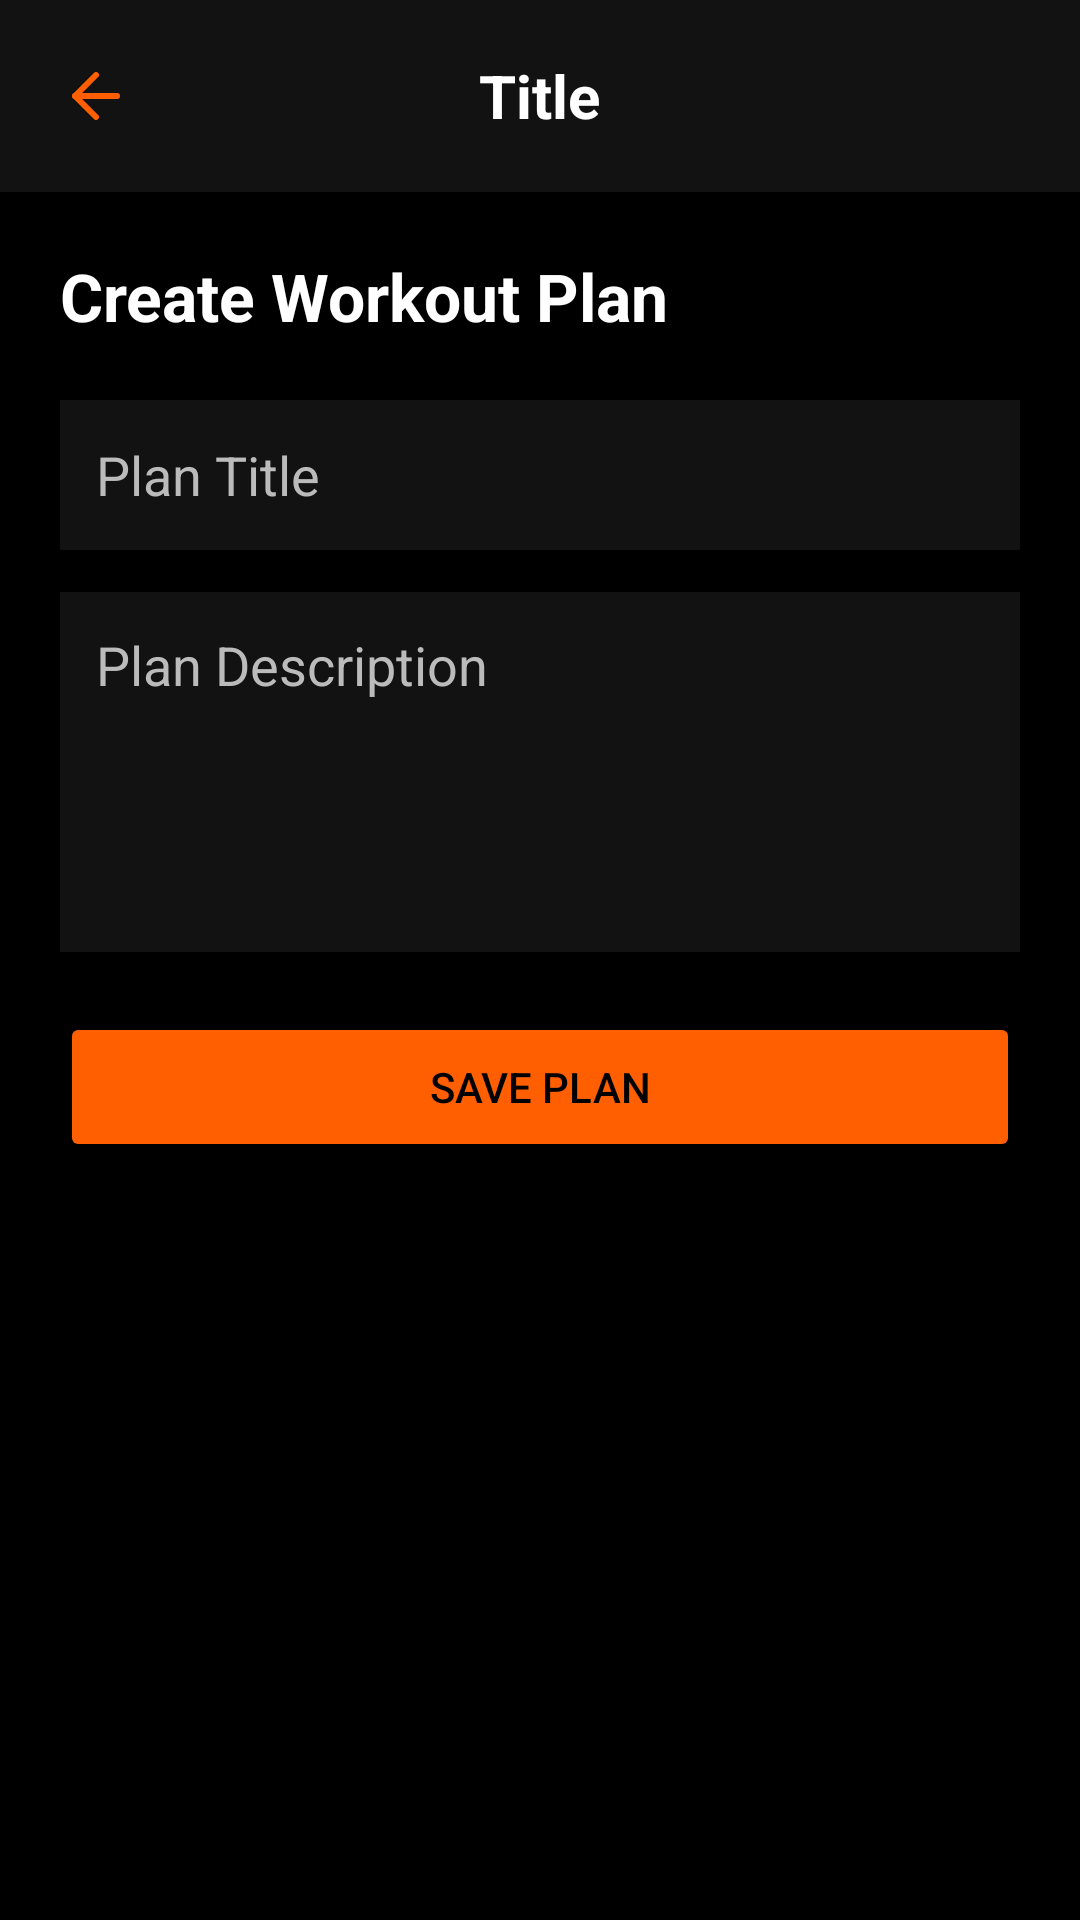

Screen size 1080x1920. Icon name, then its center in pixels as (x=x, y=y):
go back: (x=96, y=96)
